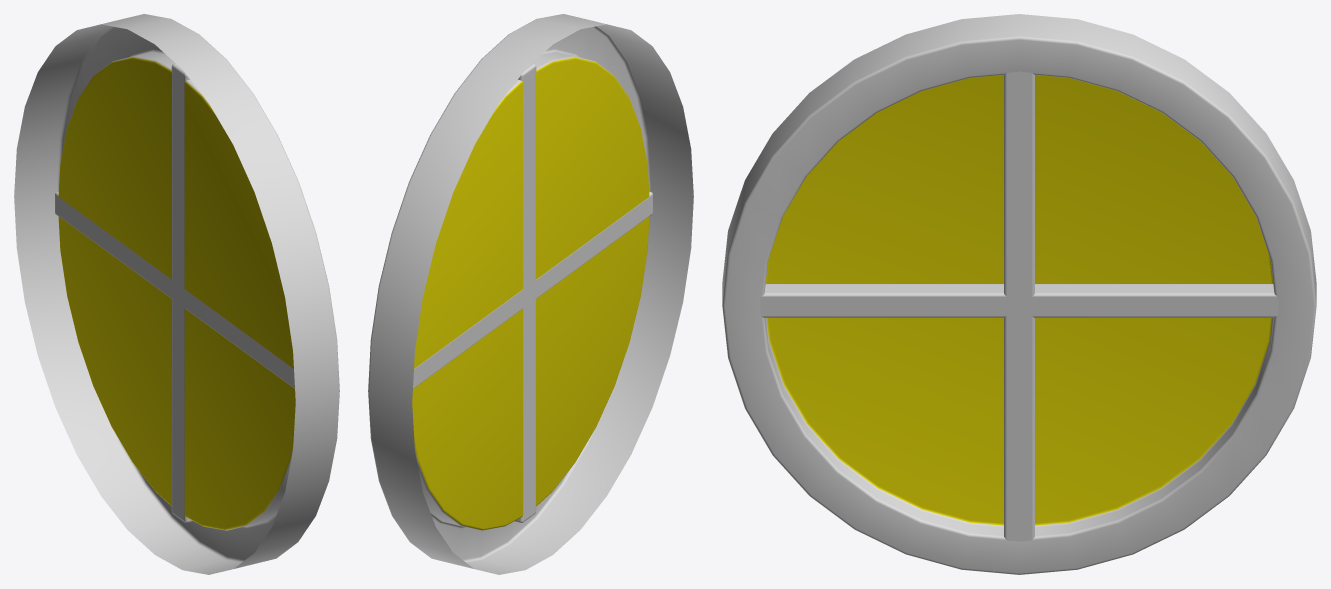
File: Raam.fbx
3 renders of one model, left to right at view 1: azimuth 30°, elevation 25°; view 2: azimuth 150°, elevation 25°; view 3: azimuth 270°, elevation 25°, orthographic. The views are drawn at different scales.
Visible parts, largest first — view 1: Cylinder; view 2: Cylinder; view 3: Cylinder.
Part boxes in pixels (box(x1,y1,x2,y2)): Cylinder: box(14, 14, 339, 574); Cylinder: box(368, 14, 693, 574); Cylinder: box(722, 14, 1316, 574).
Size of the model in its own units: 11.4 by 123 by 123.
